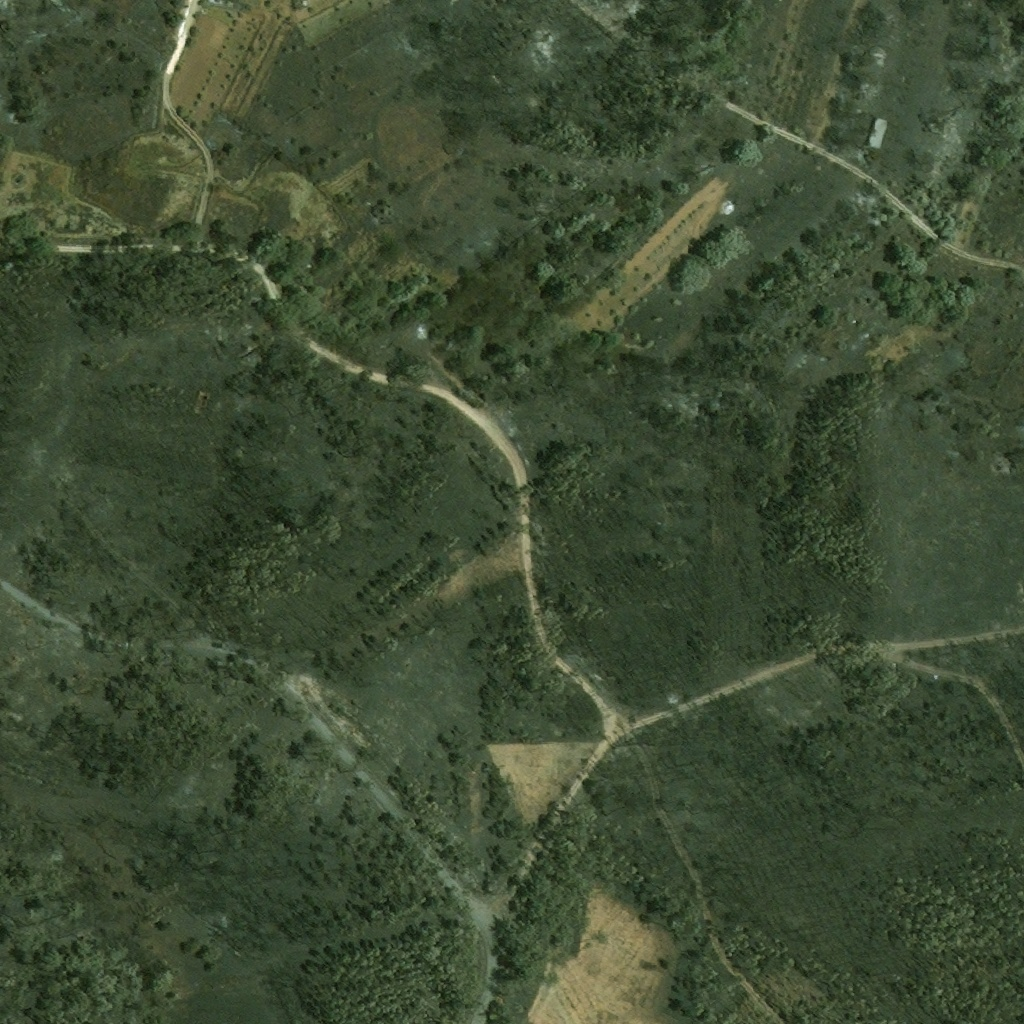0 no-damage: (869, 117, 886, 148), (234, 11, 241, 15)
